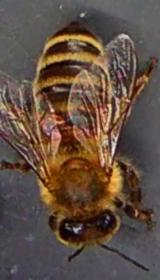varroa_mite: (36, 110, 64, 132)
